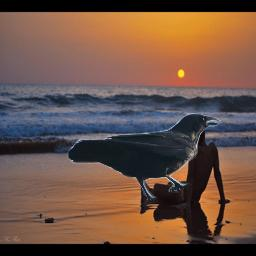Crow: (67, 113, 221, 204)
